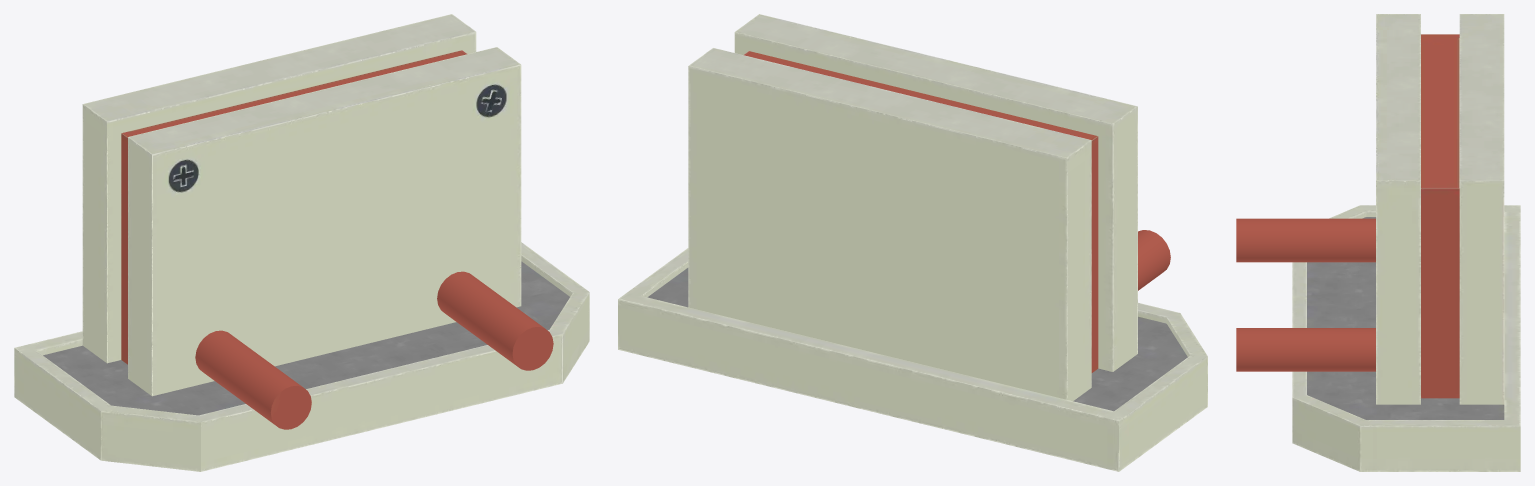
The model's file is vtape.glb.
The picture shows the model from 3 angles, left to right: view 1: azimuth 30°, elevation 25°; view 2: azimuth 150°, elevation 25°; view 3: azimuth 270°, elevation 25°; orthographic projection. The views are drawn at different scales.
Visible parts, largest first — view 1: M_VTapeStorage; view 2: M_VTapeStorage; view 3: M_VTapeStorage.
Part boxes in pixels (left/top/right/bottom): M_VTapeStorage: left=14, top=14, right=589, bottom=471; M_VTapeStorage: left=618, top=14, right=1207, bottom=471; M_VTapeStorage: left=1236, top=14, right=1520, bottom=471.
Size of the model in its own units: 0.0106 by 0.0059 by 0.00576.
1 material, 1 textured.
